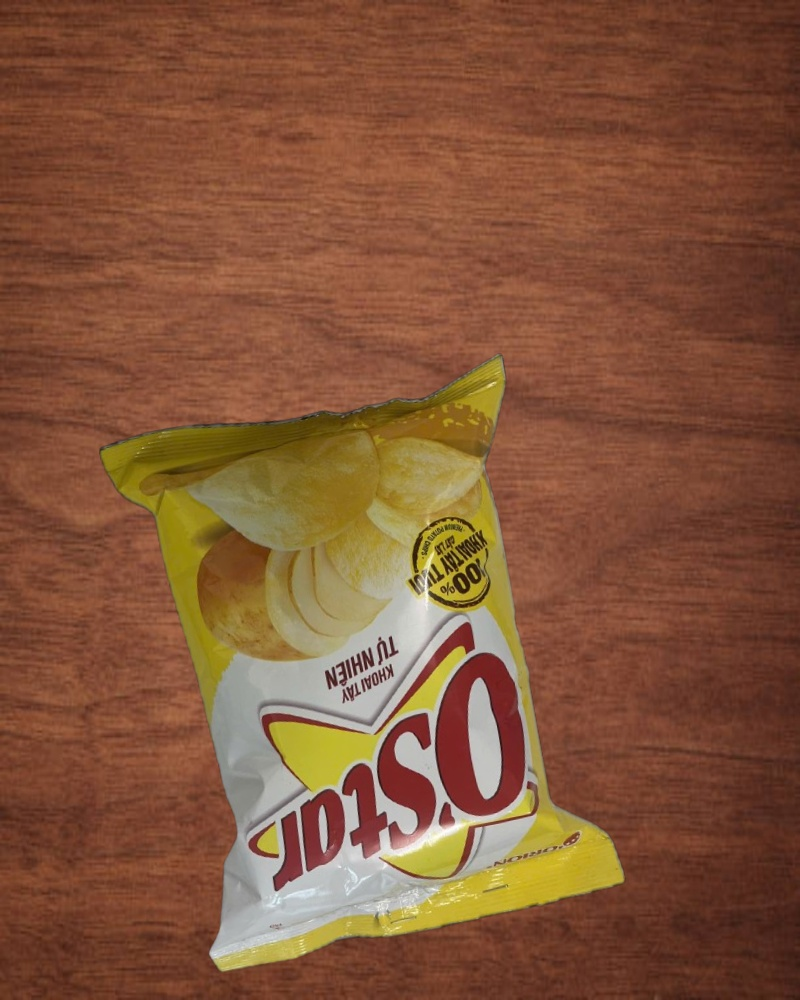Snack cua: (102, 355, 626, 970)
